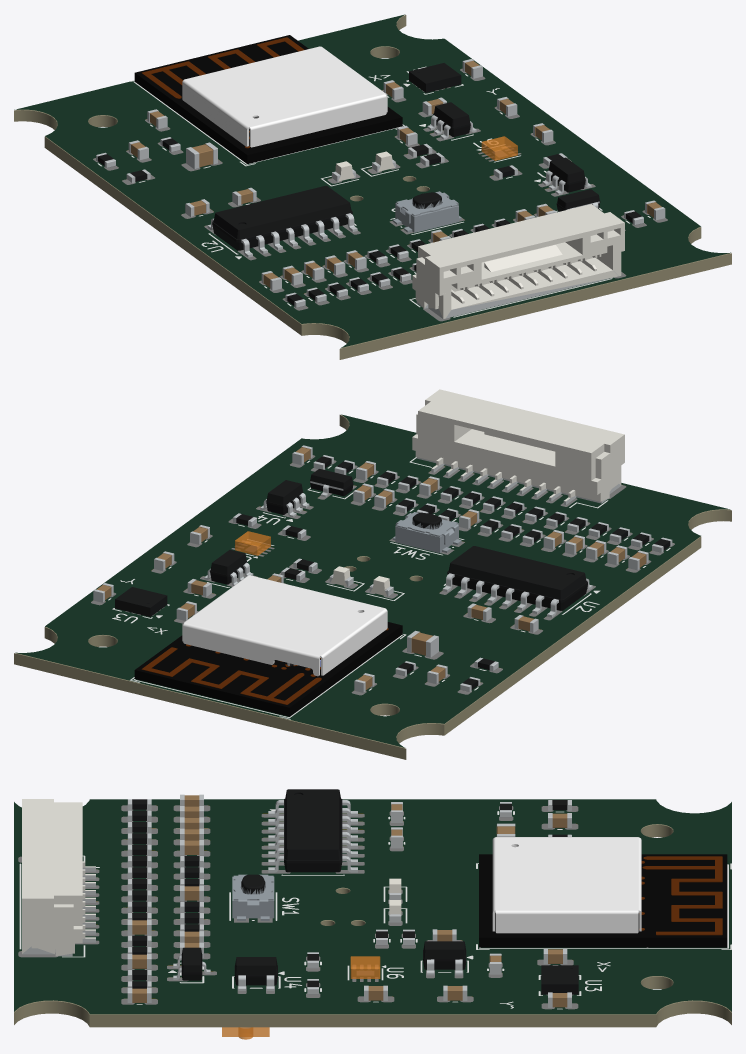
Rendered from 03_PCB_Closeup.glb.
3 views of the same model, one above another, from view 1: azimuth 30°, elevation 25°; view 2: azimuth 150°, elevation 25°; view 3: azimuth 270°, elevation 25° (orthographic). The views are drawn at different scales.
Visible parts, largest first — view 1: =>[0:1:1:20].003, J1.004, NAUO2.003, =>[0:1:1:22].003, NAUO335.003, U2.004, =>[0:1:1:16].004, SW1.003, =>[0:1:1:18].003, NAUO374.003, U4.003, U5.003 (+4 smaller); view 2: =>[0:1:1:20].003, J1.004, NAUO2.003, =>[0:1:1:22].003, NAUO335.003, U2.004, =>[0:1:1:16].004, SW1.003, =>[0:1:1:18].003, NAUO374.003, U4.003, U5.003 (+4 smaller); view 3: =>[0:1:1:20].003, NAUO2.003, =>[0:1:1:22].003, J1.004, NAUO335.003, =>[0:1:1:16].004, U2.004, =>[0:1:1:18].003, NAUO374.003, SW1.003, U5.003, U4.003 (+4 smaller).
Boxes of the visible parts, left/top/right/bottom form: =>[0:1:1:20].003: left=14, top=14, right=730, bottom=347; J1.004: left=412, top=204, right=624, bottom=318; NAUO2.003: left=182, top=46, right=387, bottom=147; =>[0:1:1:22].003: left=14, top=15, right=731, bottom=359; NAUO335.003: left=134, top=35, right=402, bottom=163; U2.004: left=207, top=185, right=357, bottom=257; =>[0:1:1:16].004: left=93, top=68, right=667, bottom=321; SW1.003: left=392, top=191, right=461, bottom=232; =>[0:1:1:18].003: left=97, top=66, right=650, bottom=317; NAUO374.003: left=142, top=37, right=304, bottom=98; U4.003: left=542, top=157, right=591, bottom=194; U5.003: left=427, top=102, right=476, bottom=139; =>[0:1:1:20].003: left=15, top=414, right=730, bottom=747; J1.004: left=412, top=389, right=624, bottom=504; NAUO2.003: left=182, top=575, right=387, bottom=676; =>[0:1:1:22].003: left=14, top=415, right=731, bottom=759; NAUO335.003: left=134, top=622, right=402, bottom=716; U2.004: left=442, top=546, right=592, bottom=617; =>[0:1:1:16].004: left=91, top=455, right=674, bottom=695; SW1.003: left=392, top=512, right=461, bottom=553; =>[0:1:1:18].003: left=108, top=457, right=670, bottom=719; NAUO374.003: left=141, top=647, right=321, bottom=704; U4.003: left=260, top=480, right=309, bottom=517; U5.003: left=204, top=550, right=253, bottom=585; =>[0:1:1:20].003: left=14, top=799, right=731, bottom=1014; NAUO2.003: left=492, top=837, right=641, bottom=933; =>[0:1:1:22].003: left=14, top=805, right=731, bottom=1027; J1.004: left=22, top=799, right=95, bottom=956; NAUO335.003: left=479, top=854, right=727, bottom=947; =>[0:1:1:16].004: left=18, top=805, right=578, bottom=1009; U2.004: left=268, top=789, right=357, bottom=872; =>[0:1:1:18].003: left=19, top=809, right=731, bottom=1009; NAUO374.003: left=645, top=856, right=722, bottom=935; SW1.003: left=232, top=874, right=274, bottom=920; U5.003: left=423, top=941, right=466, bottom=975; U4.003: left=234, top=957, right=277, bottom=990.
Size of what is drawn, in the model's own units: 0.034 by 0.00832 by 0.048.
